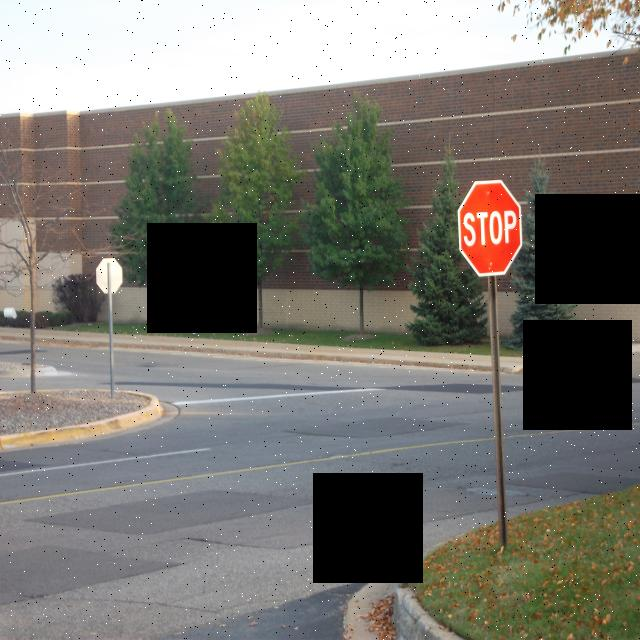stop: (457, 180, 522, 278)
